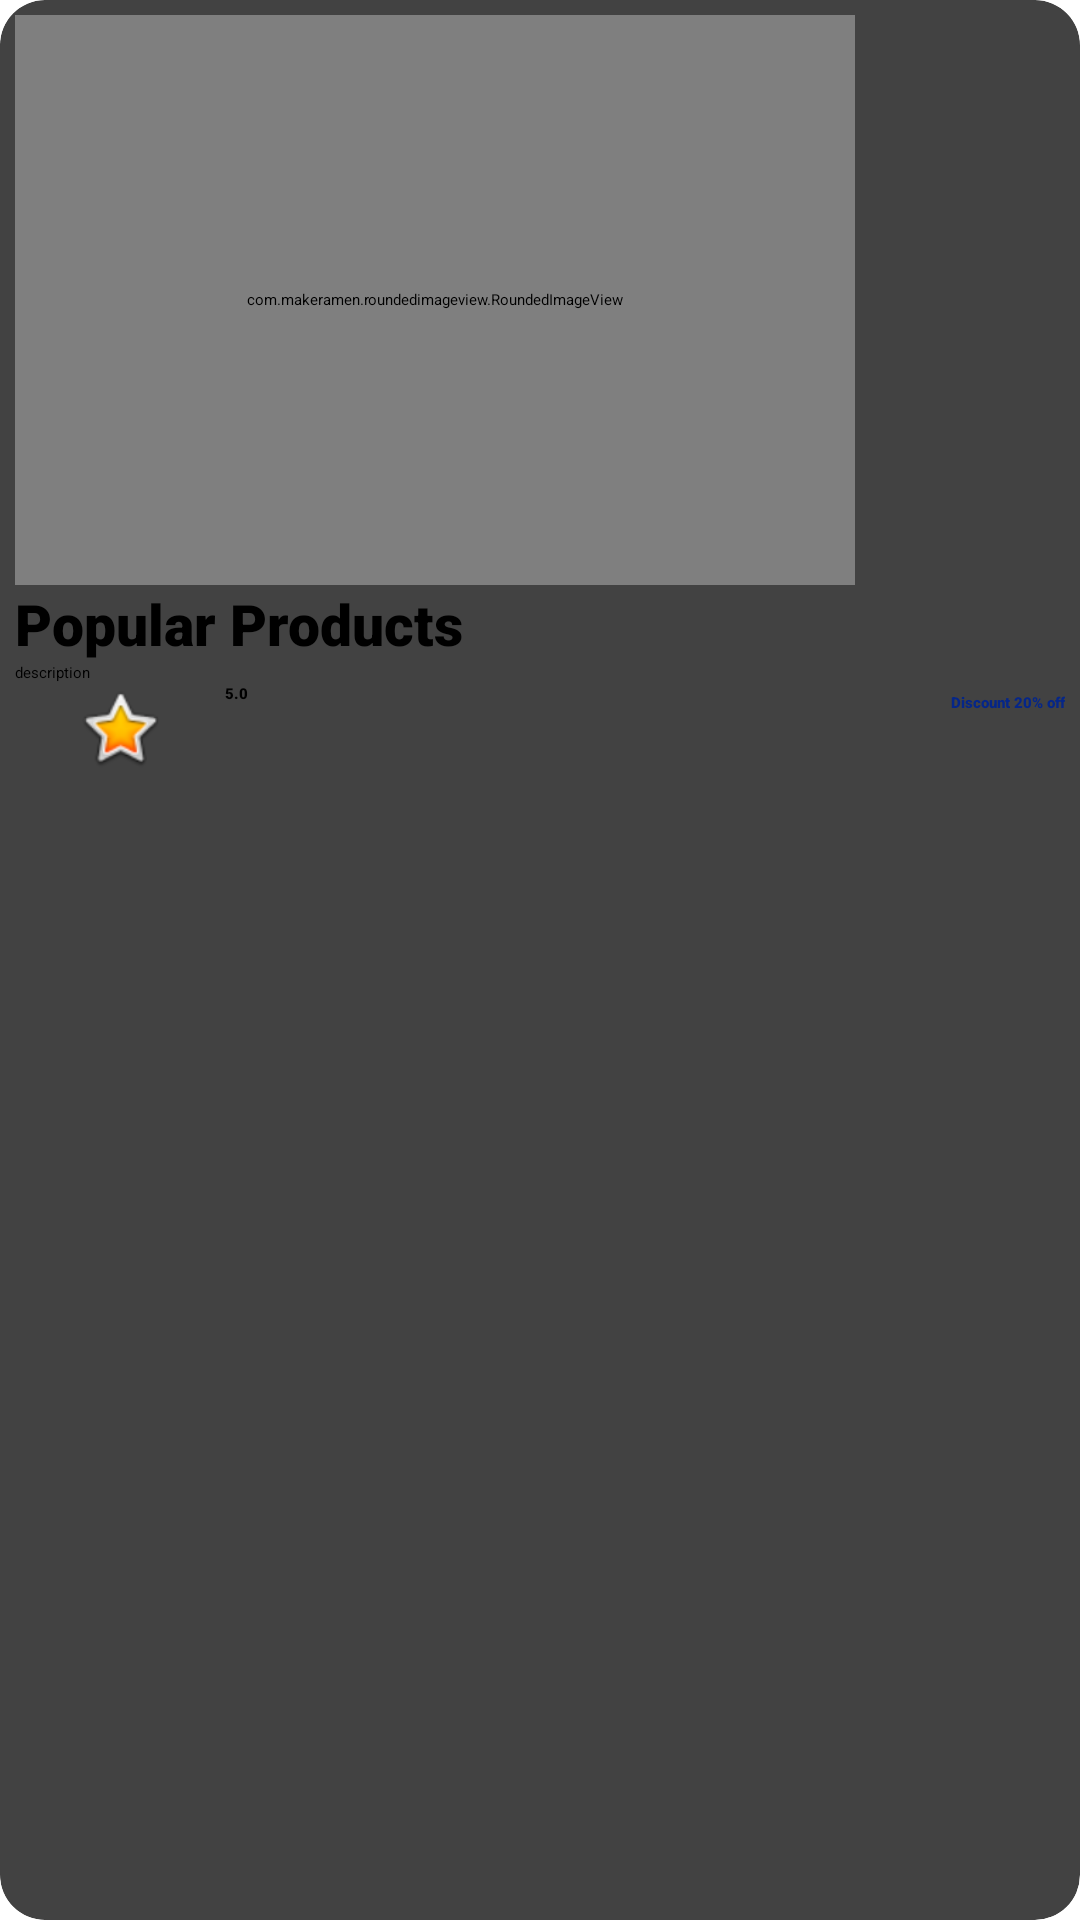

Where icons sit on this 1080x1920 app screen, as (x1, y1, x2, y2):
star on: (86, 694, 156, 762)
